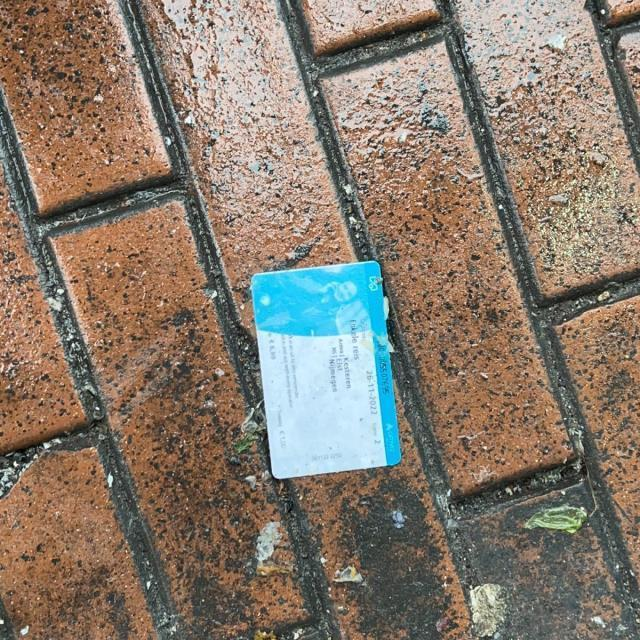Paper: (247, 258, 404, 482)
